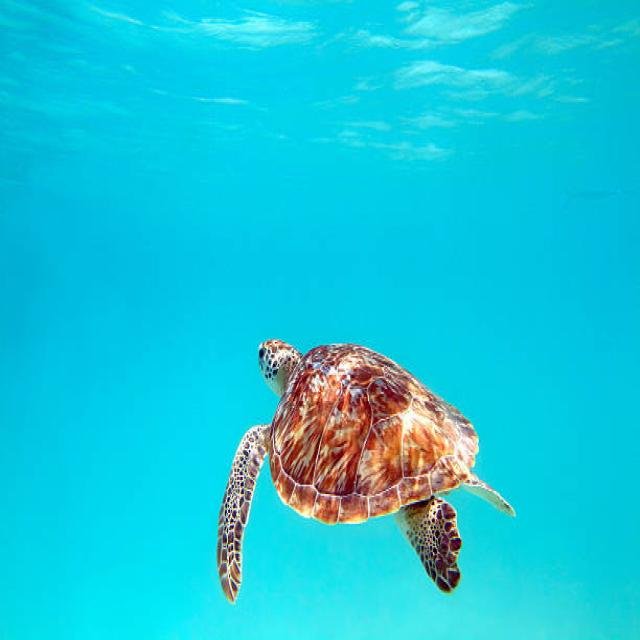sea turtle: (189, 308, 547, 602), (370, 487, 538, 614), (212, 409, 274, 618), (244, 330, 312, 381)
